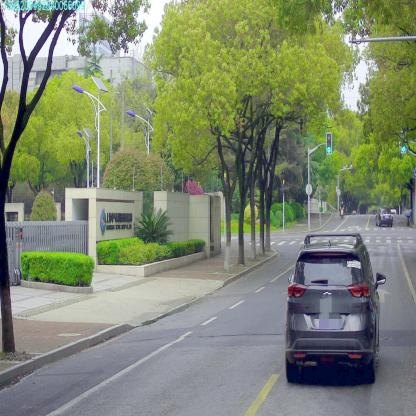traffic-light: (326, 132, 331, 154), (401, 131, 406, 153)
